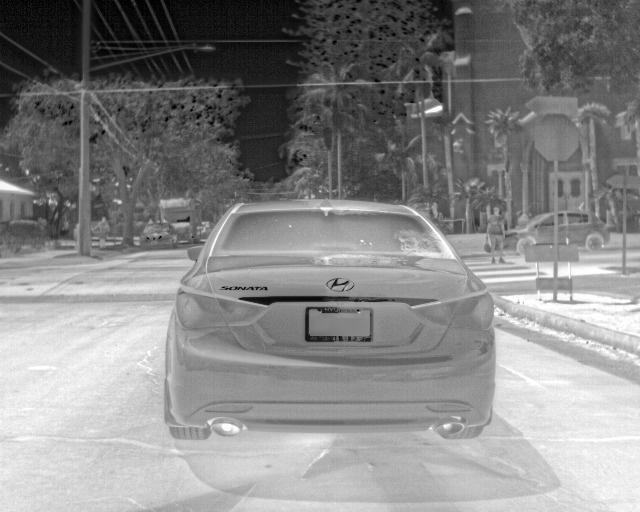bicycle: (161, 197, 493, 444), (558, 208, 611, 252), (504, 209, 552, 255), (140, 219, 175, 251)
empty: (485, 206, 505, 263)
